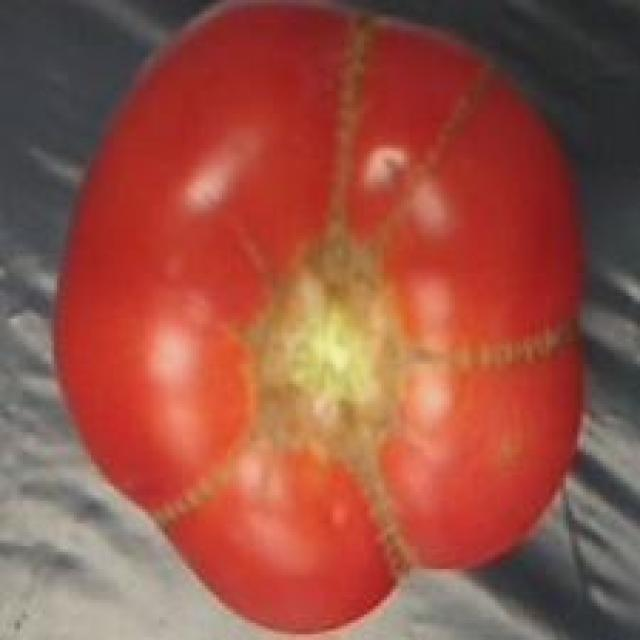overripe tomato: (46, 3, 592, 640)
